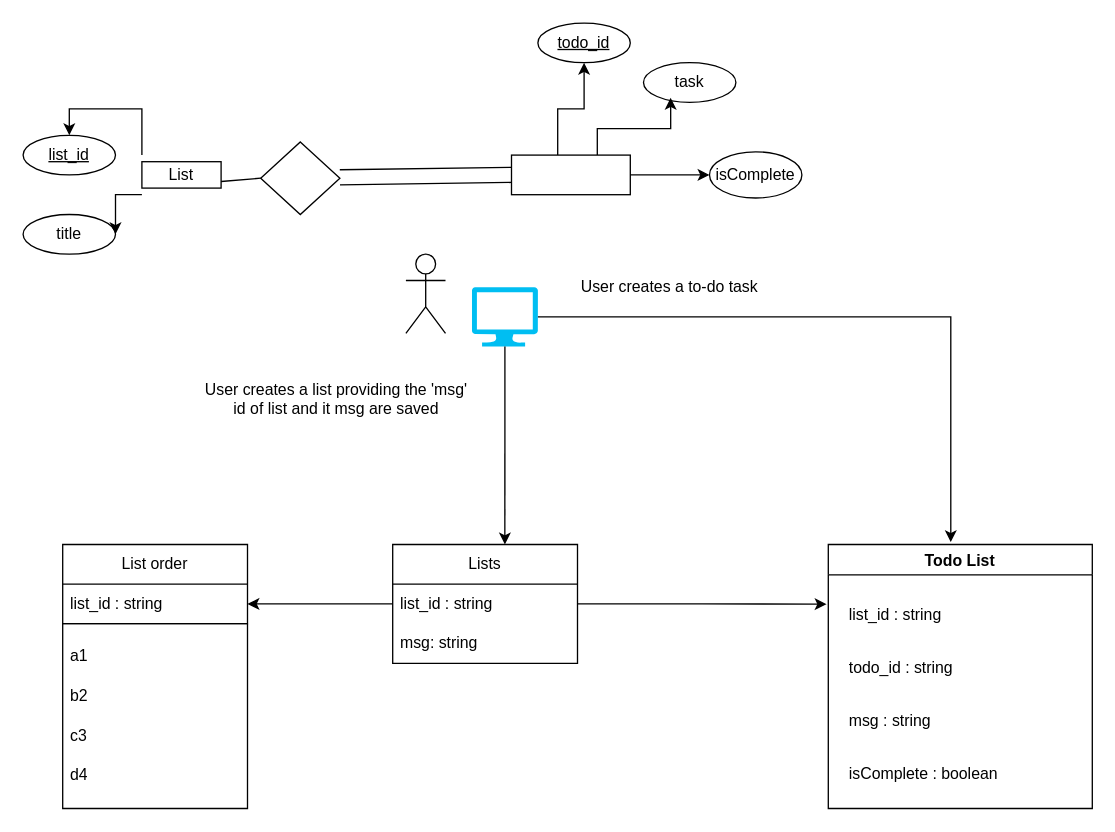
Some shapes in this 1115 by 832 pixel diagram are drawn without their labels. Each missing label, with the centre of its shape:
"Actor" goes at (x=425, y=293).
"Has" goes at (x=299, y=177).
"Todo" goes at (x=570, y=174).
